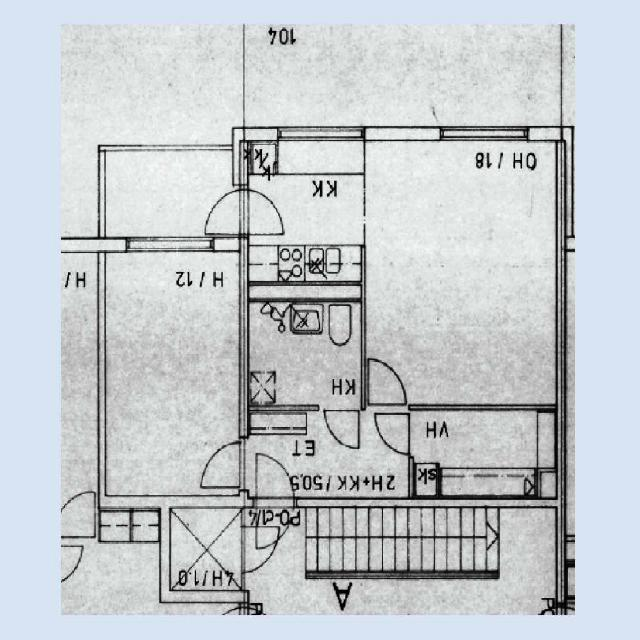door: (255, 497, 294, 555), (255, 450, 294, 508), (202, 441, 249, 487), (202, 189, 249, 234), (239, 189, 286, 234), (368, 359, 406, 410), (323, 405, 358, 452), (375, 414, 413, 453)
